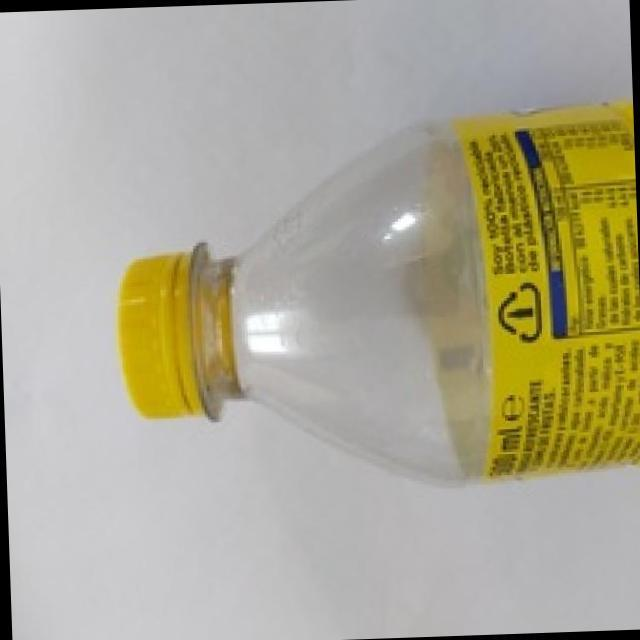good: (75, 97, 640, 508)
